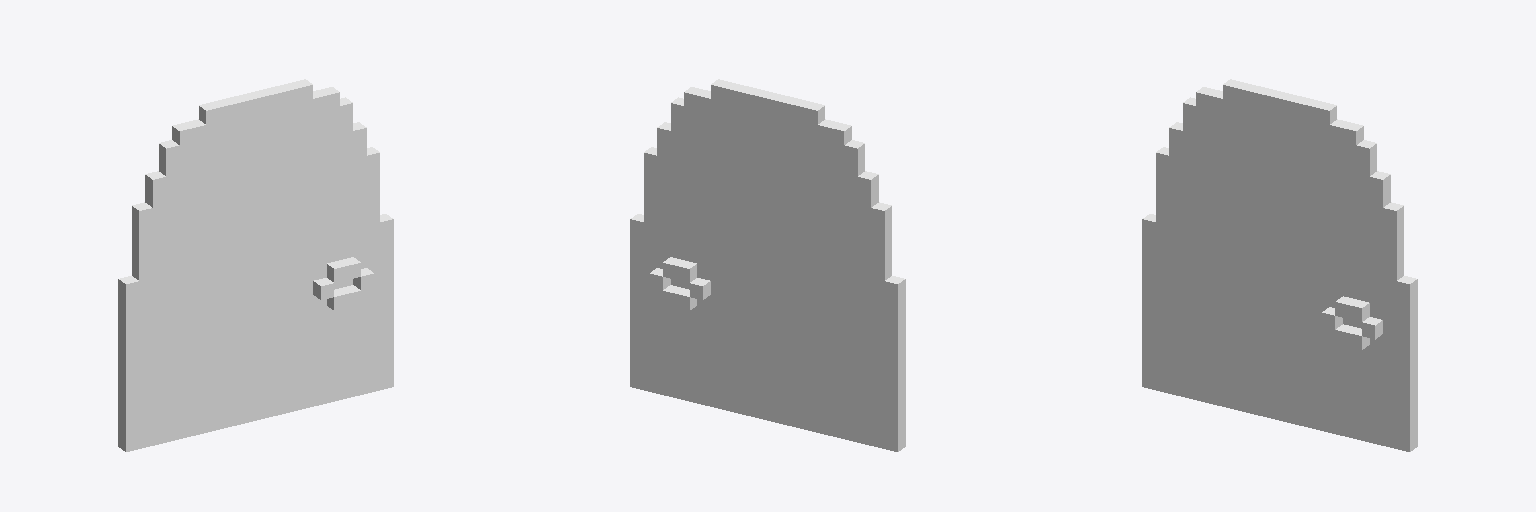
The model's file is Stenka1-7.obj.
The picture shows the model from 3 angles: view 1: azimuth 30°, elevation 25°; view 2: azimuth 150°, elevation 25°; view 3: azimuth 330°, elevation 25°; orthographic projection.
Parts seen in each view (by area): view 1: object 1; view 2: object 1; view 3: object 1.
Boxes of the visible parts, box(x1,y1,x2,y2) form: object 1: box(118, 79, 393, 451); object 1: box(630, 79, 905, 451); object 1: box(1142, 79, 1417, 451).
Size of the model in its own units: 2 by 2.3 by 0.3.